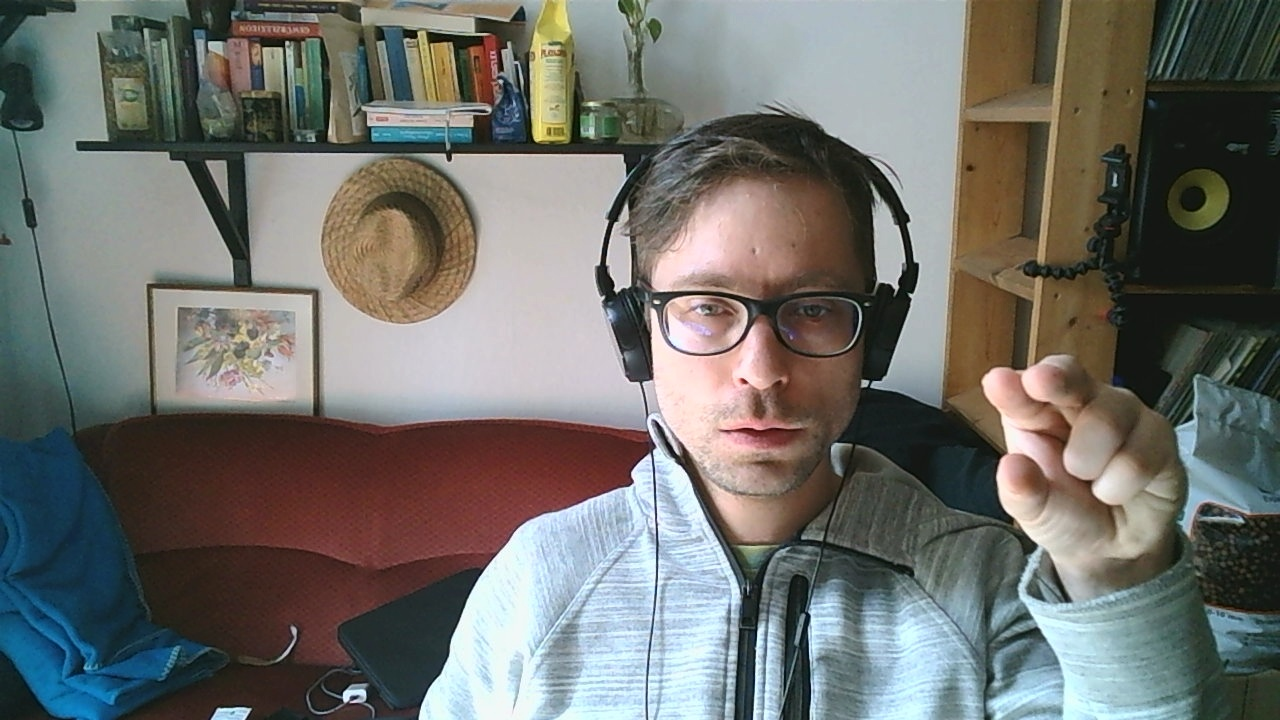no: (977, 354, 1194, 562)
